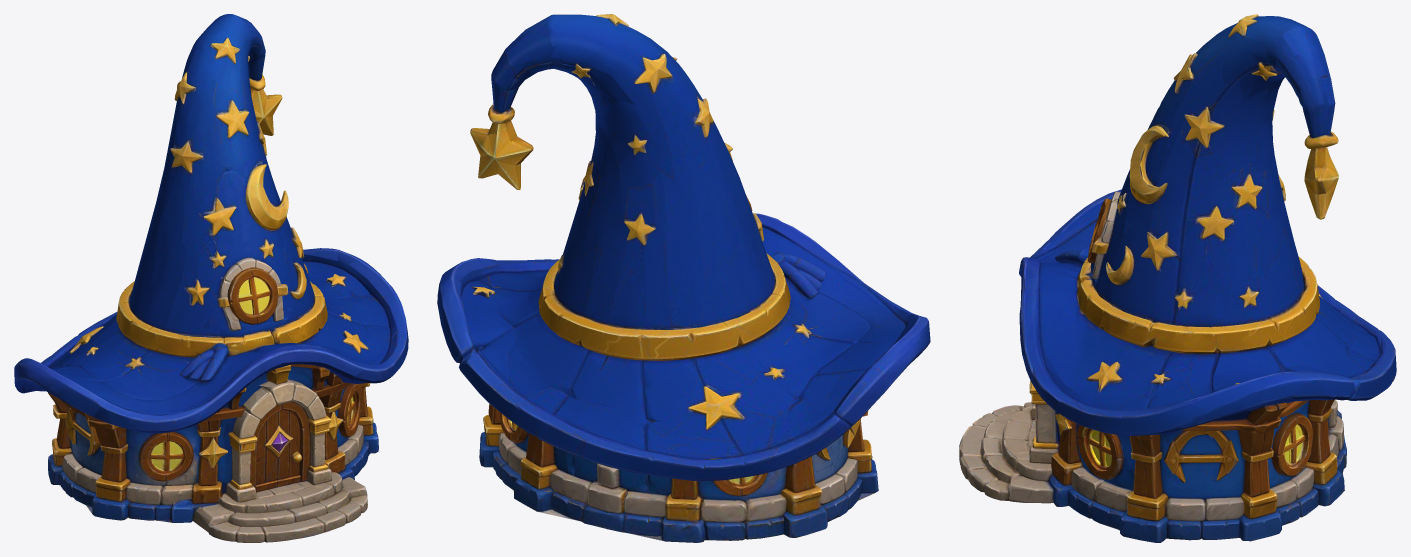
Rendered from mage_shop.glb.
3 views of the same model, side by side, from view 1: azimuth 30°, elevation 25°; view 2: azimuth 150°, elevation 25°; view 3: azimuth 270°, elevation 25° (orthographic). The views are drawn at different scales.
Size of the model in its own units: 1.85 by 1.9 by 1.61.
1 material, 1 textured.
